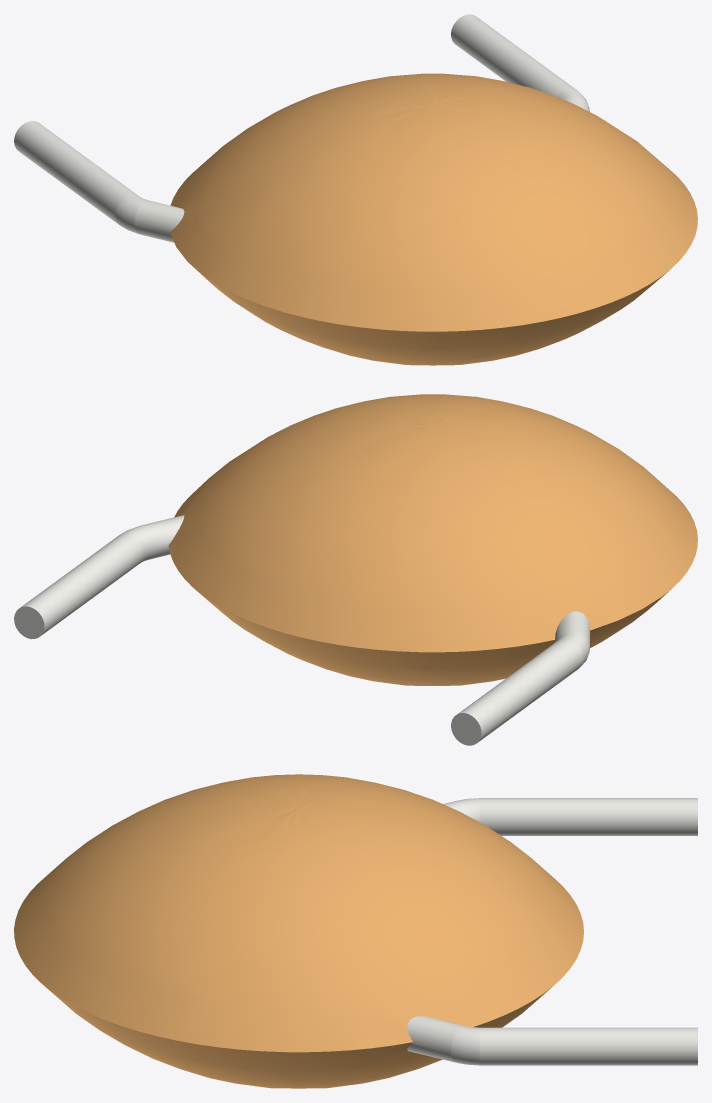
The model's file is C_Disc_D10.5mm_W5.0mm_P10.00mm.glb.
3 views of the same model, one above another, from view 1: azimuth 30°, elevation 25°; view 2: azimuth 150°, elevation 25°; view 3: azimuth 270°, elevation 25° (orthographic). The views are drawn at different scales.
Parts seen in each view (by area): view 1: Shape_IndexedFaceSet.005, Shape_IndexedFaceSet.004, Shape_IndexedFaceSet.001, Shape_IndexedFaceSet.008, Shape_IndexedFaceSet.003, Shape_IndexedFaceSet.002; view 2: Shape_IndexedFaceSet.005, Shape_IndexedFaceSet.004, Shape_IndexedFaceSet.008, Shape_IndexedFaceSet.001, Shape_IndexedFaceSet.006, Shape_IndexedFaceSet, Shape_IndexedFaceSet.009, Shape_IndexedFaceSet.003; view 3: Shape_IndexedFaceSet.005, Shape_IndexedFaceSet.004, Shape_IndexedFaceSet.008, Shape_IndexedFaceSet.001, Shape_IndexedFaceSet.006, Shape_IndexedFaceSet.007.
Boxes of the visible parts, <box> form: Shape_IndexedFaceSet.005: <box>170,73,697,331</box>; Shape_IndexedFaceSet.004: <box>189,263,668,365</box>; Shape_IndexedFaceSet.001: <box>14,121,139,224</box>; Shape_IndexedFaceSet.008: <box>451,14,576,96</box>; Shape_IndexedFaceSet.003: <box>135,200,184,242</box>; Shape_IndexedFaceSet.002: <box>115,195,146,233</box>; Shape_IndexedFaceSet.005: <box>168,394,697,652</box>; Shape_IndexedFaceSet.004: <box>197,591,668,685</box>; Shape_IndexedFaceSet.008: <box>20,532,145,635</box>; Shape_IndexedFaceSet.001: <box>458,638,582,742</box>; Shape_IndexedFaceSet.006: <box>140,515,184,559</box>; Shape_IndexedFaceSet: <box>451,713,481,745</box>; Shape_IndexedFaceSet.009: <box>14,606,44,639</box>; Shape_IndexedFaceSet.003: <box>555,611,590,644</box>; Shape_IndexedFaceSet.005: <box>14,774,583,1052</box>; Shape_IndexedFaceSet.004: <box>43,985,551,1088</box>; Shape_IndexedFaceSet.008: <box>479,1027,697,1065</box>; Shape_IndexedFaceSet.001: <box>479,798,697,835</box>; Shape_IndexedFaceSet.006: <box>407,1016,464,1062</box>; Shape_IndexedFaceSet.007: <box>451,1026,479,1065</box>.
Bounding box in the file's own units: 4.21 × 1.97 × 4.96.
